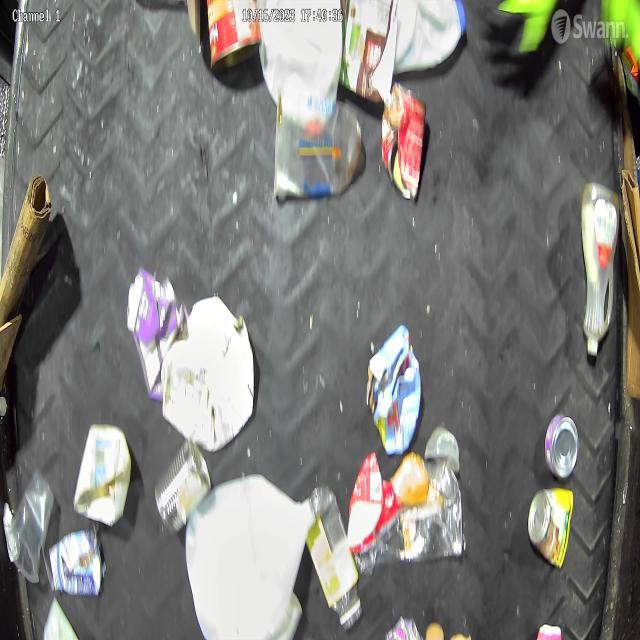can: (382, 82, 428, 200), (156, 440, 212, 530), (208, 2, 264, 68), (531, 489, 571, 565), (542, 414, 580, 484)
milk_jug: (185, 474, 308, 634), (263, 2, 344, 113), (395, 1, 473, 81)
plastic_bottle: (304, 480, 364, 625), (578, 182, 622, 349)
